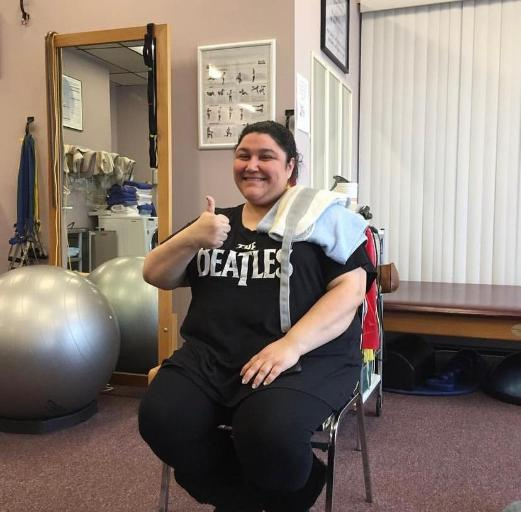like: (192, 195, 230, 249)
no_gesture: (239, 338, 300, 387)
